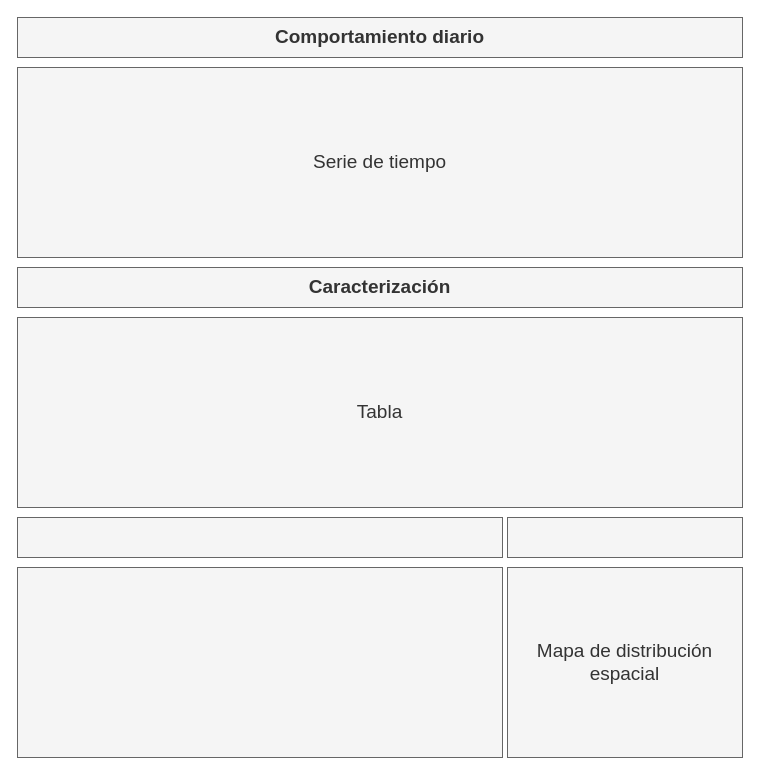
The diagram is 760 pixels wide and 775 high, and some of its shapes have lost their labels. The centre of each missing label's shape, as x and y in pixels:
Anomalía mensual: point 259,537
Gráfico de barras: point 259,662
Mapa de anomalías: point 624,537
